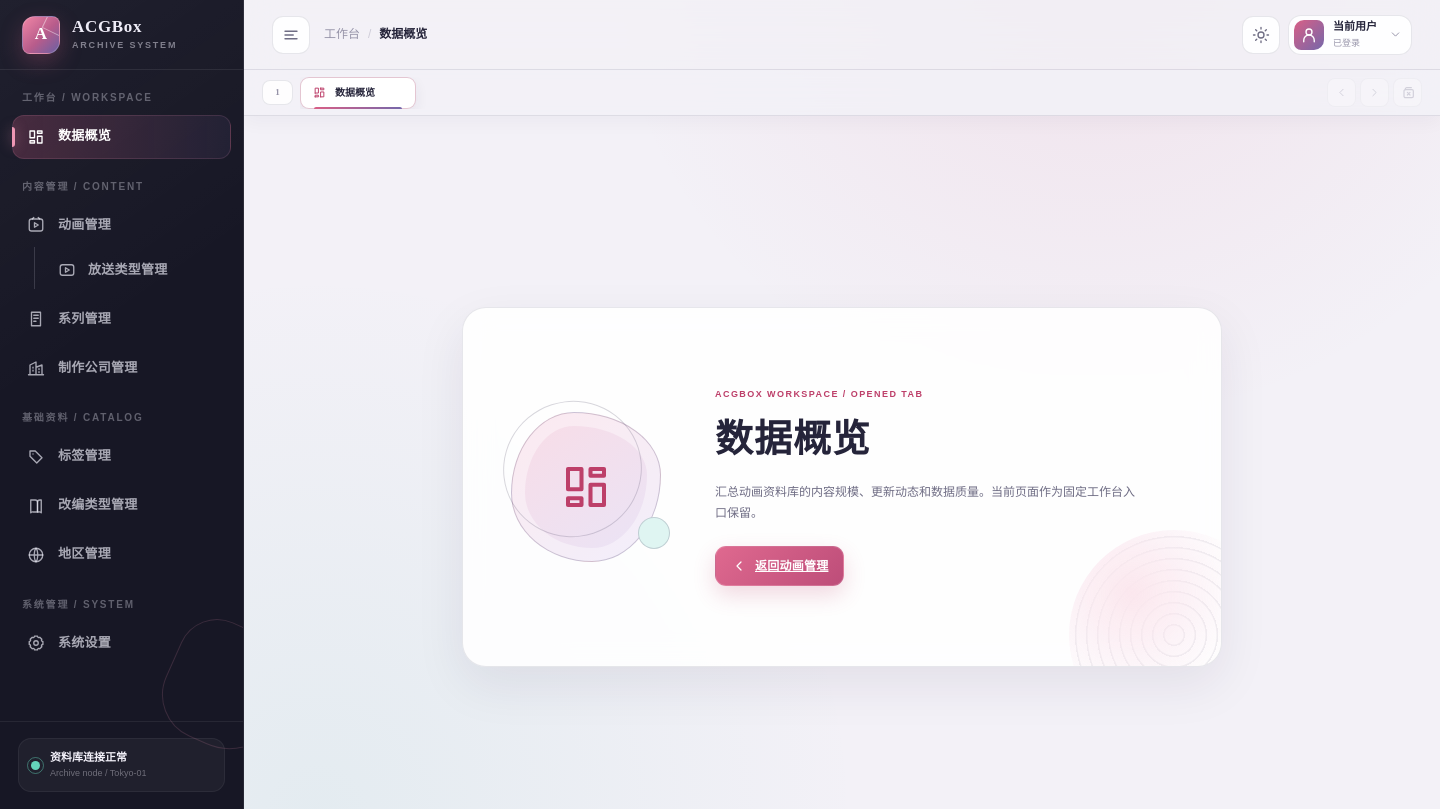
Scenario: 标签管理页面 › 沿用现有管理布局和标签管理路由入口
Click the link to "/admin/tags". click: (69,456)
box: [27,448,111,466]
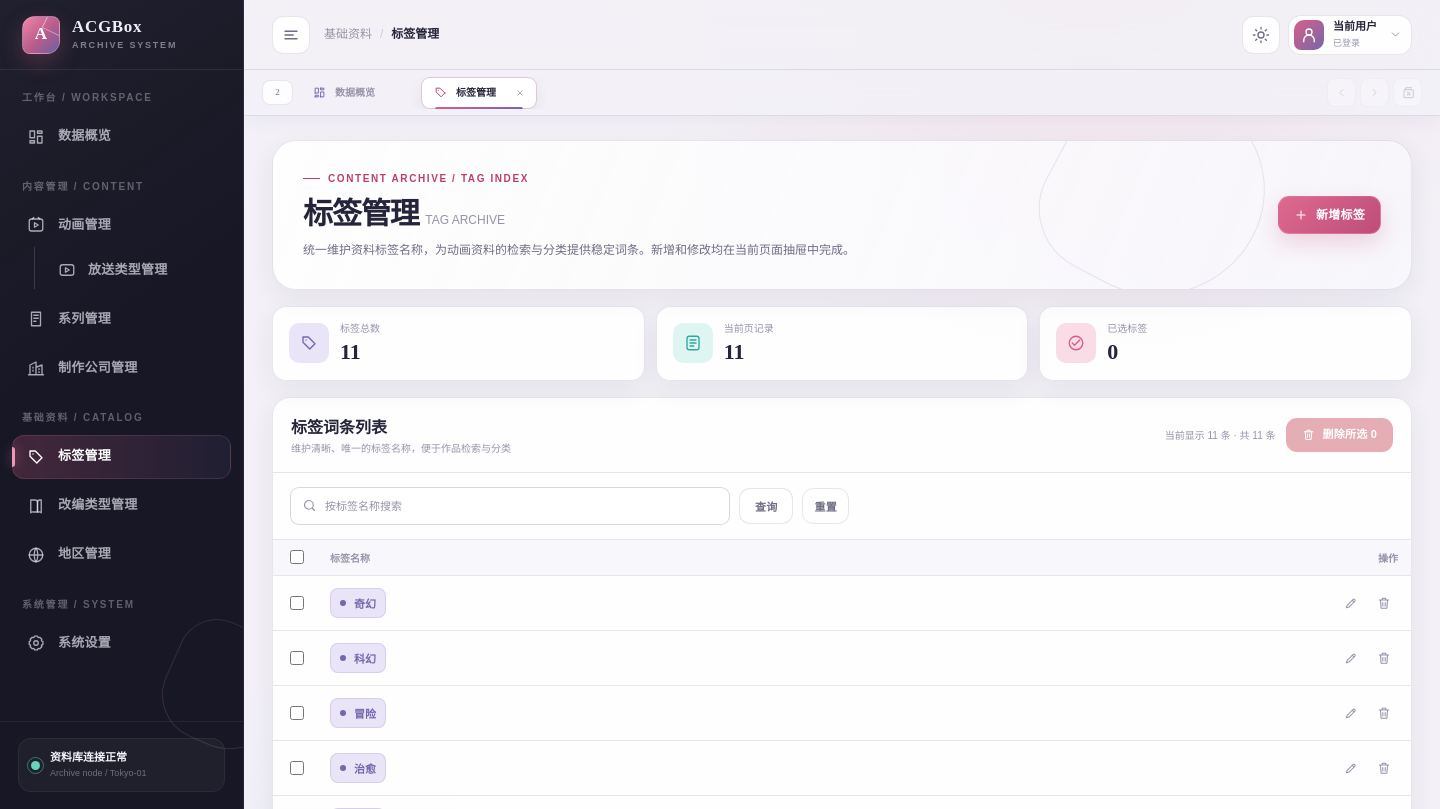
Expected: the element with class "workspace-tab" reads "标签管理", [432,78,504,108]
Click the button "新增标签". click: (1330,215)
box: [1278,196,1381,234]
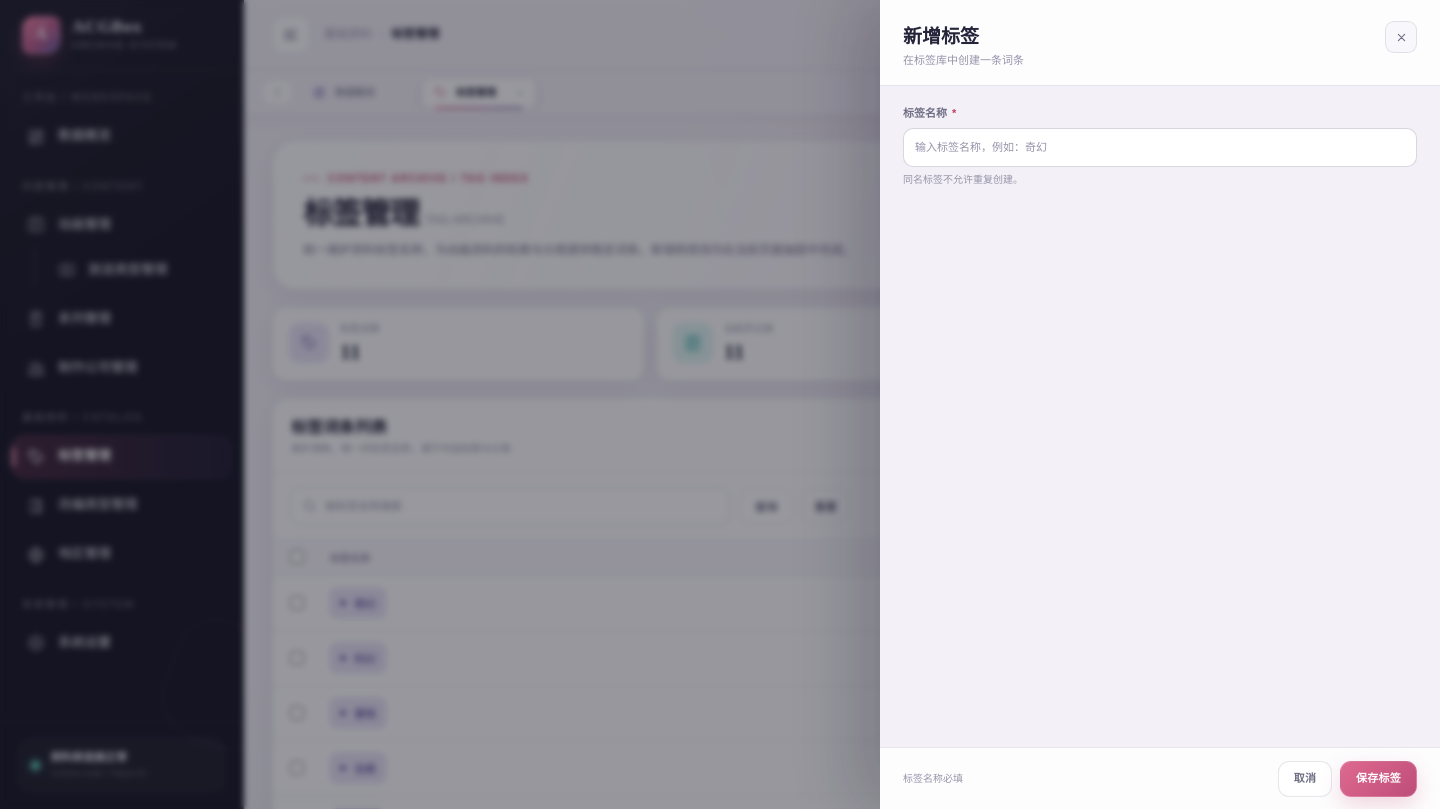
Expected: the dialog with class "tags-drawer" shows "新增标签", [903,26,979,47]
